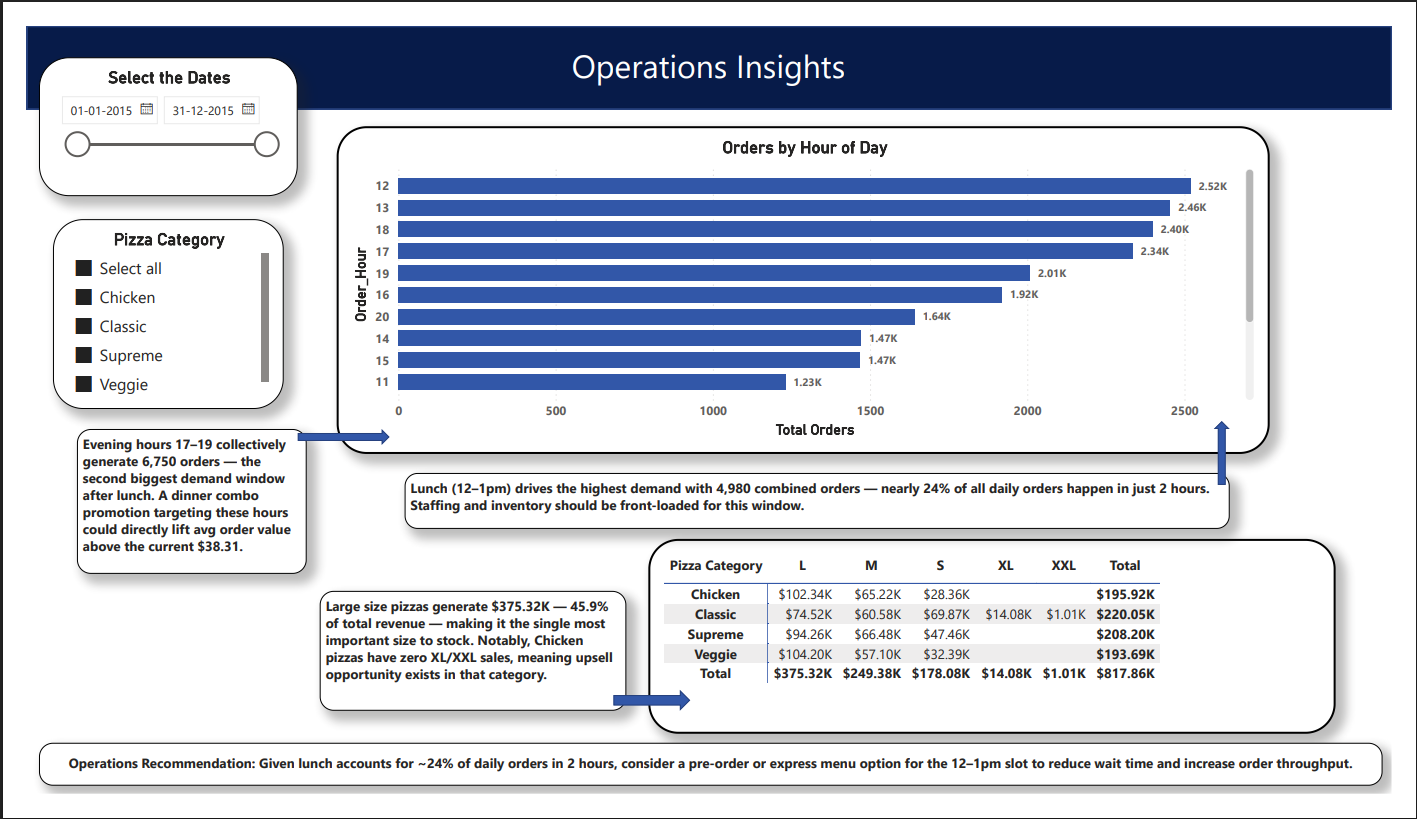

What the dashboard file says about the page in this screenshot:
{"tool":"powerbi","page":{"name":"Operations Overview","canvas":[1366,768],"ordinal":1},"visuals":[{"type":"shape","box":[0,0,1365.7,83.5],"z":0,"group":"g1"},{"type":"clusteredBarChart","title":"Orders by Hour of Day","fields":{"Category":["pizza_db orders.order_hour"],"Y":["MeauresTable.Total Orders"]},"box":[310.4,100.4,933.9,327.4],"z":0},{"type":"textbox","box":[0,11.6,1365,71.2],"z":1000,"group":"g1"},{"type":"slicer","title":"Pizza Category","fields":{"Values":["pizza_db pizza_types.category"]},"box":[26.1,193,230.9,190.4],"z":1000},{"type":"group","id":"g1","title":"Group 1","box":[0,0,1365.7,83.5],"z":2000},{"type":"pivotTable","fields":{"Rows":["pizza_db pizza_types.category"],"Columns":["pizza_db pizzas.size"],"Values":["MeauresTable.Total Revenue"]},"box":[622.2,512.6,687.4,195.7],"z":3000},{"type":"textbox","box":[378.3,447.4,825.7,56.1],"z":4000},{"type":"shape","box":[1188.3,395.2,15.7,63.9],"z":5000},{"type":"textbox","box":[293.5,564.8,306.5,120],"z":6000},{"type":"shape","box":[587,663.9,77,20.9],"z":7000},{"type":"slicer","title":"Select the Dates","fields":{"Values":["Date Table.Date"]},"box":[11.7,31.3,259.6,138.3],"z":8000},{"type":"textbox","box":[49.6,403,230.9,144.8],"z":9000},{"type":"shape","box":[271.3,403,91.3,15.7],"z":10000},{"type":"textbox","box":[11.7,717.4,1344.8,43],"z":11000}]}

Visuals, with their boxes in screenshot pixels (x1, y1, x2, y2), scaled from the page's 1366x768 canvas onto the 1417x819 screenshot:
shape: BBox(0, 0, 1416, 89)
"Orders by Hour of Day" clusteredBarChart: BBox(322, 107, 1291, 456)
textbox: BBox(0, 12, 1416, 88)
"Pizza Category" slicer: BBox(27, 206, 267, 409)
"Group 1" group: BBox(0, 0, 1416, 89)
pivotTable - pizza_db pizza_types.category x pizza_db pizzas.size: BBox(645, 547, 1358, 755)
textbox: BBox(392, 477, 1249, 537)
shape: BBox(1233, 421, 1249, 490)
textbox: BBox(304, 602, 622, 730)
shape: BBox(609, 708, 689, 730)
"Select the Dates" slicer: BBox(12, 33, 281, 181)
textbox: BBox(51, 430, 291, 584)
shape: BBox(281, 430, 376, 447)
textbox: BBox(12, 765, 1407, 811)
